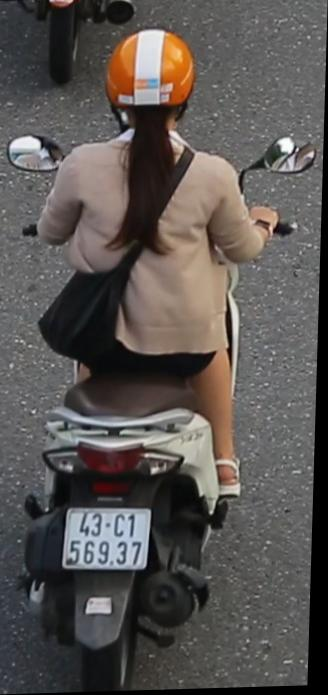LP: (63, 499, 161, 586)
helmet: (104, 22, 196, 147)
